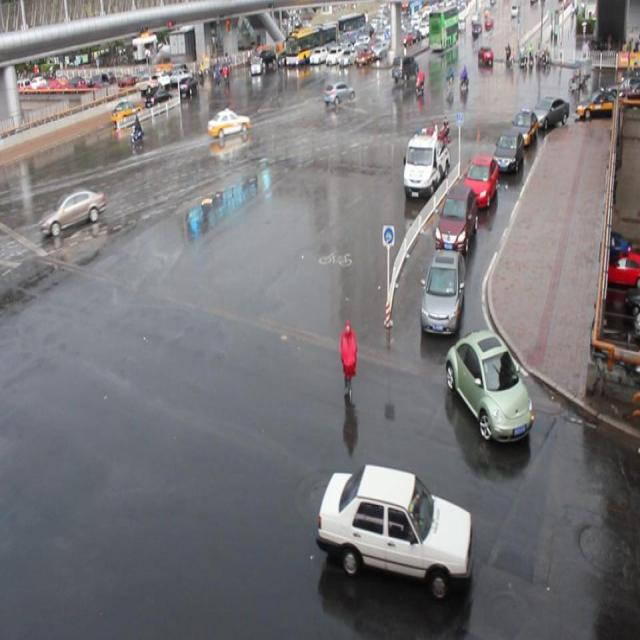bus: (401, 128, 448, 204)
car: (318, 463, 472, 595), (445, 328, 531, 440), (419, 249, 464, 333), (433, 184, 476, 254), (40, 188, 106, 232), (462, 153, 497, 206), (490, 128, 522, 173), (528, 94, 568, 130), (208, 108, 250, 140), (510, 110, 537, 146), (323, 81, 354, 104)
